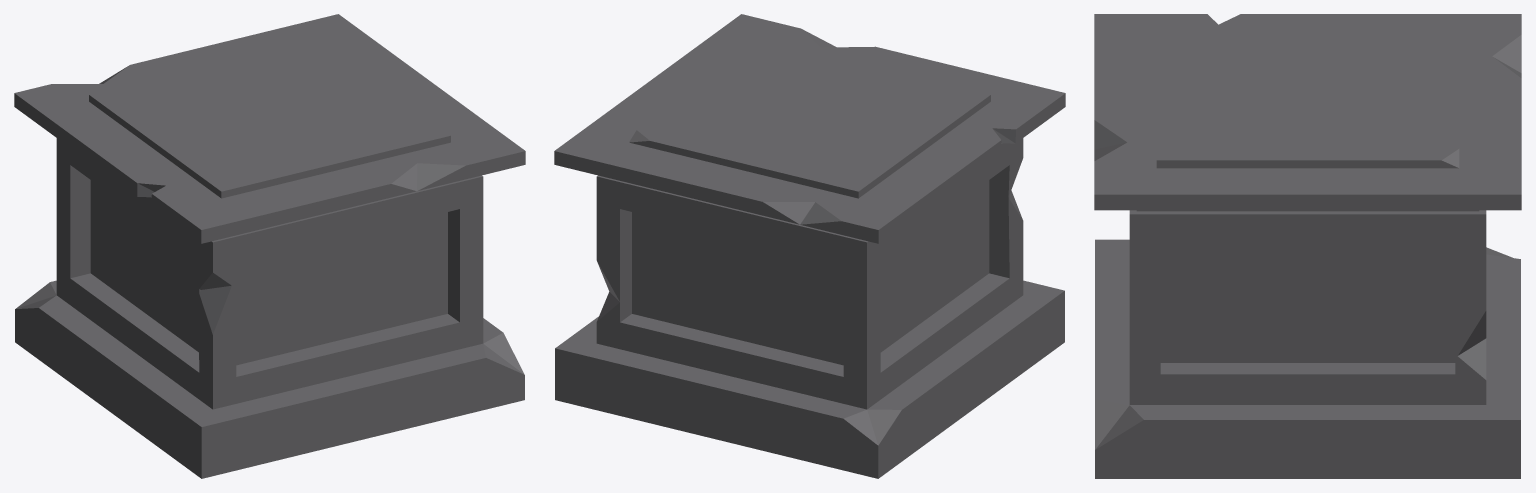
File: SM_Prop_Plinth_02.gltf
3 renders of one model, left to right at view 1: azimuth 30°, elevation 25°; view 2: azimuth 150°, elevation 25°; view 3: azimuth 270°, elevation 25°, orthographic. The views are drawn at different scales.
Visible parts, largest first — view 1: SM_Prop_Plinth_02; view 2: SM_Prop_Plinth_02; view 3: SM_Prop_Plinth_02.
Boxes of the visible parts, x1,y1,x2,y2 form: SM_Prop_Plinth_02: (14, 14, 525, 478); SM_Prop_Plinth_02: (554, 14, 1065, 478); SM_Prop_Plinth_02: (1094, 14, 1521, 478).
Size of the model in its own units: 3.1 by 2.34 by 3.1.
1 material, 1 textured.
